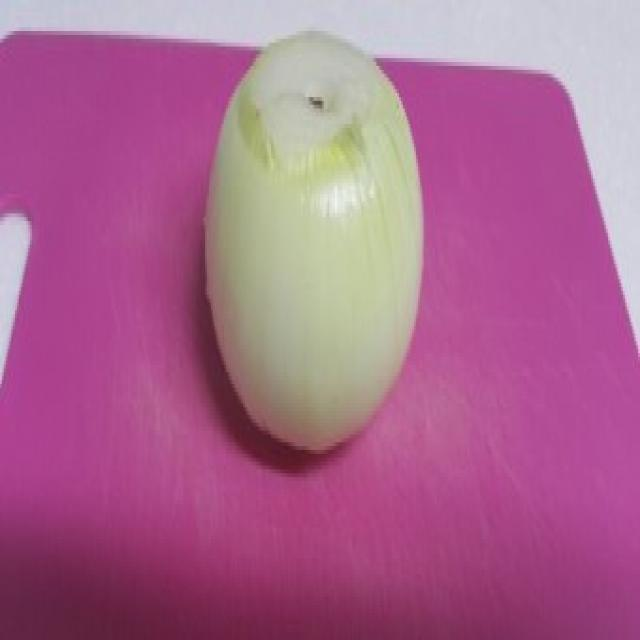Onion: (204, 29, 424, 453)
